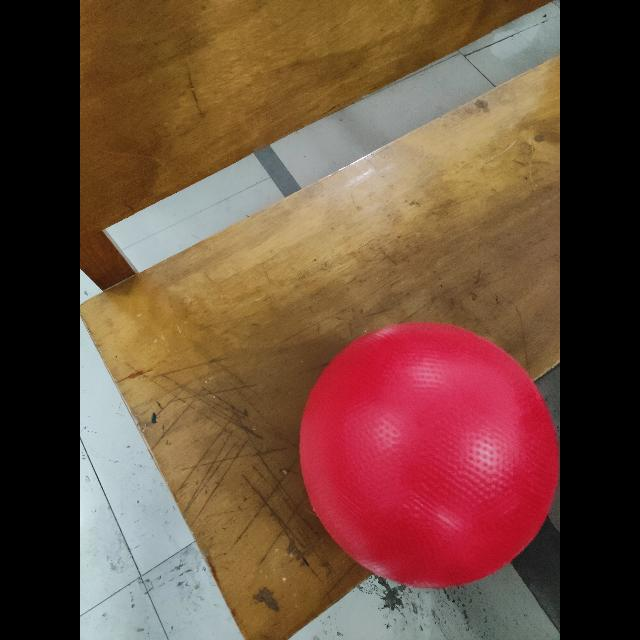R: (300, 320, 560, 590)
